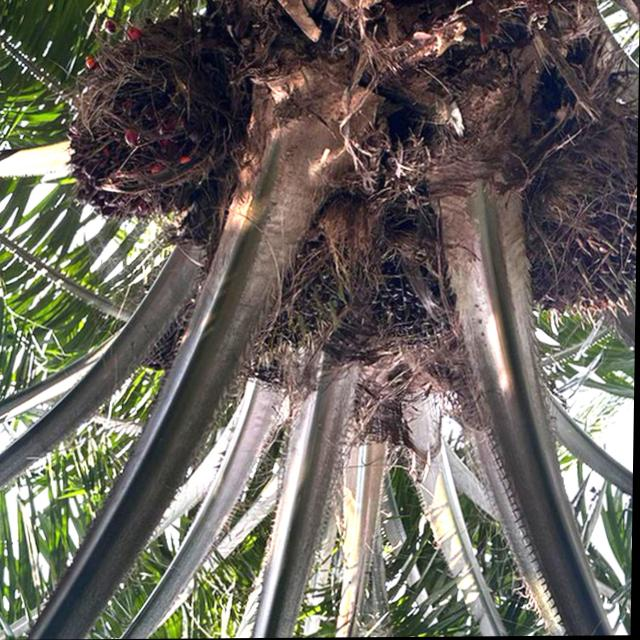unripe: (172, 203, 360, 364), (368, 212, 517, 359)
